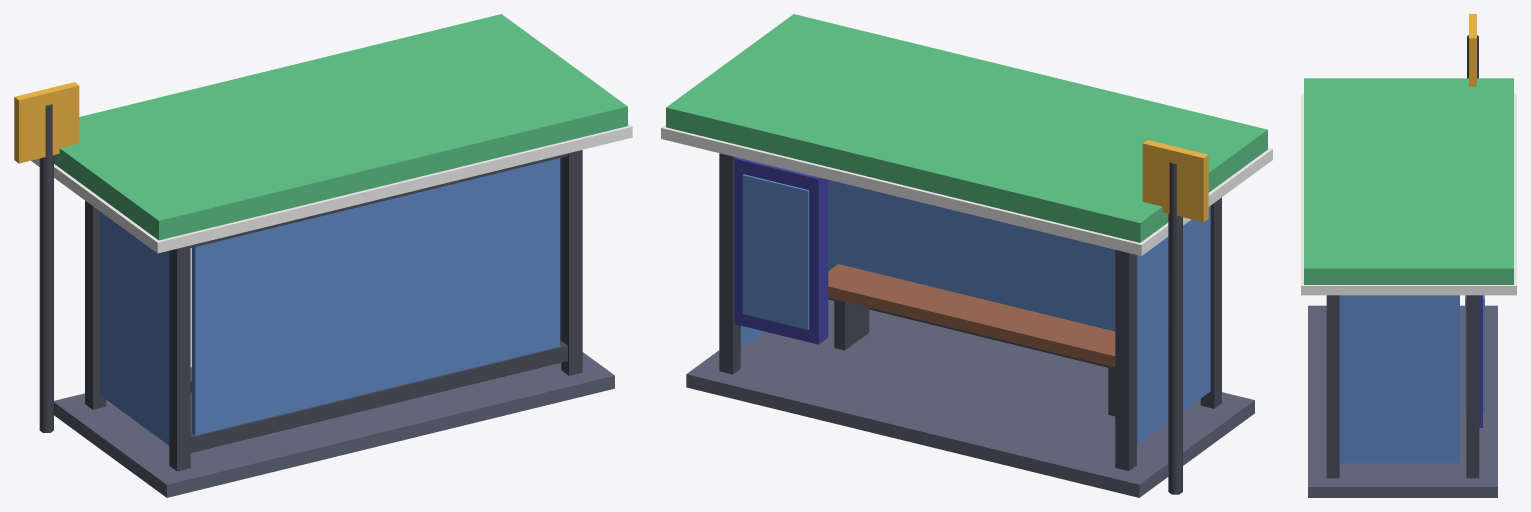
File: abribus.glb
3 renders of one model, left to right at view 1: azimuth 30°, elevation 25°; view 2: azimuth 150°, elevation 25°; view 3: azimuth 270°, elevation 25°, orthographic. The views are drawn at different scales.
Visible parts, largest first — view 1: fond-vitre, toit, dalle, joue-g, bandeau-rive, lisse-basse, poteau-gar, poteau-dar, mat-arret, totem-arret, poteau-gav, lisse-haute; view 2: toit, dalle, fond-vitre, joue-g, assise, affiche, bandeau-rive, caisson-info, poteau-gav, mat-arret, totem-arret, poteau-dav (+3 smaller); view 3: toit, joue-d, dalle, bandeau-rive, poteau-dav, poteau-dar, totem-arret, caisson-info, affiche.
Boxes of the visible parts, x1,y1,x2,y2 form: fond-vitre: (191,158,559,435); toit: (54,14,627,240); dalle: (54,352,614,497); joue-g: (100,212,169,445); bandeau-rive: (31,123,632,253); lisse-basse: (190,341,567,452); poteau-gar: (169,245,190,471); poteau-dar: (561,150,582,375); mat-arret: (39,104,53,432); totem-arret: (14,82,79,163); poteau-gav: (85,200,106,409); lisse-haute: (190,153,567,247); toit: (666,14,1267,242); dalle: (686,299,1254,497); fond-vitre: (828,180,1115,331); joue-g: (1137,206,1210,444); assise: (828,264,1115,367); affiche: (742,174,809,329); bandeau-rive: (661,124,1272,255); caisson-info: (734,157,828,344); poteau-gav: (1115,250,1136,470); mat-arret: (1168,162,1182,494); totem-arret: (1142,140,1208,222); poteau-dav: (719,153,740,374); toit: (1304,78,1513,284); joue-d: (1339,295,1459,463); dalle: (1308,305,1497,497); bandeau-rive: (1301,93,1516,295); poteau-dav: (1466,295,1479,478); poteau-dar: (1326,295,1339,478); totem-arret: (1469,14,1476,86); caisson-info: (1479,295,1482,427); affiche: (1465,295,1484,413).
Bounding box in the file's own units: 0.246 × 0.1555 × 0.108.
